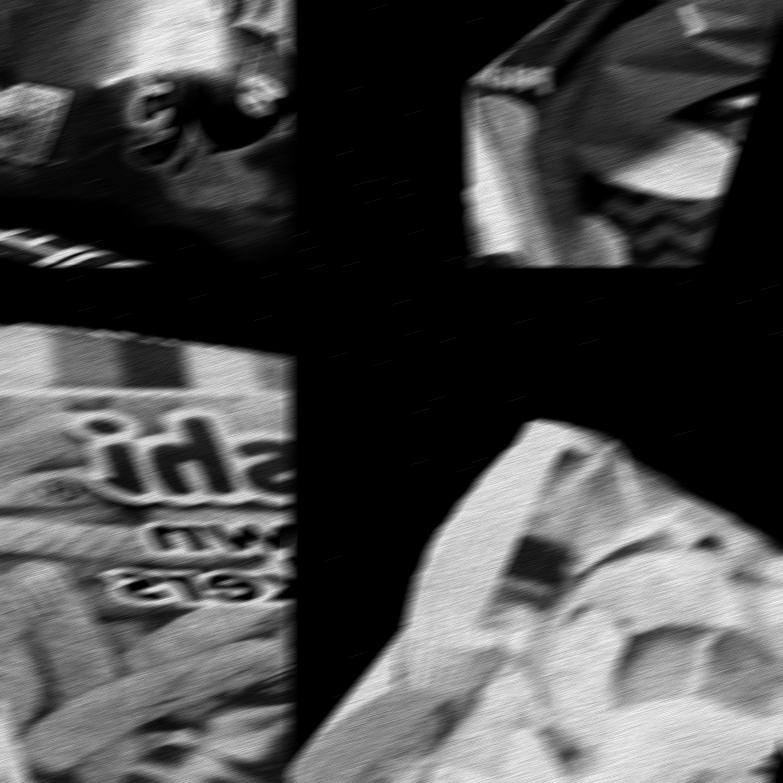Tomi: (287, 420, 783, 782)
moby chocolate: (0, 0, 291, 265)
oishi crackers: (0, 324, 291, 782)
vcut cheese: (465, 0, 783, 266)
